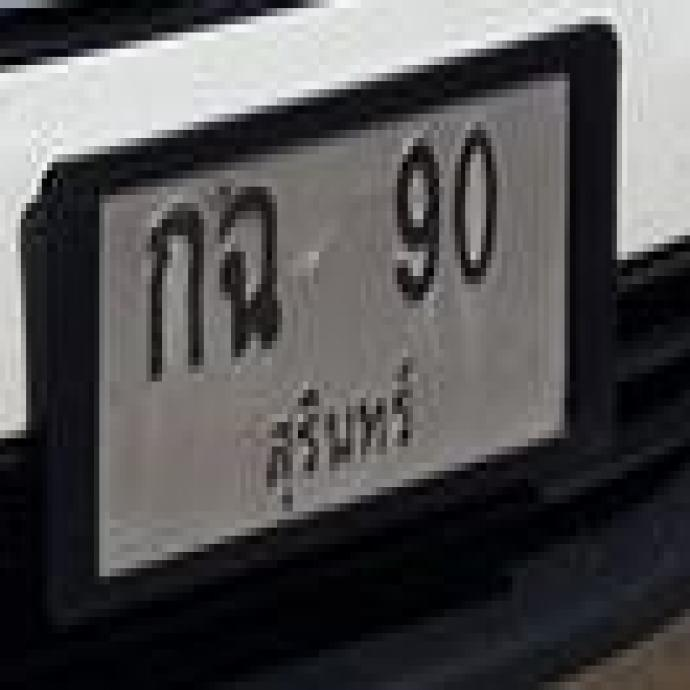0: (450, 122, 493, 278)
9: (391, 133, 436, 298)
A01: (144, 195, 200, 371)
A09: (216, 181, 277, 349)
SRN: (260, 358, 433, 512)
